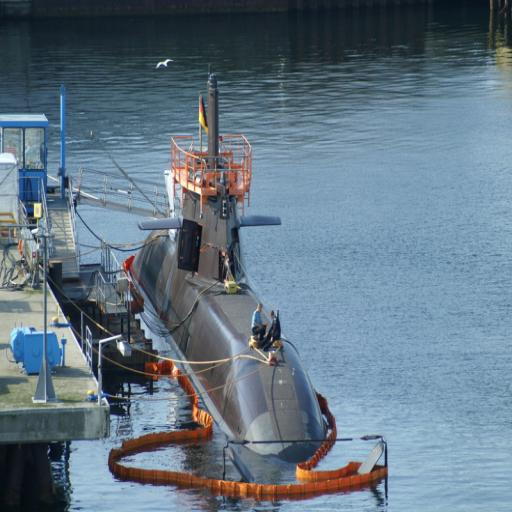submarine: (130, 73, 336, 455)
